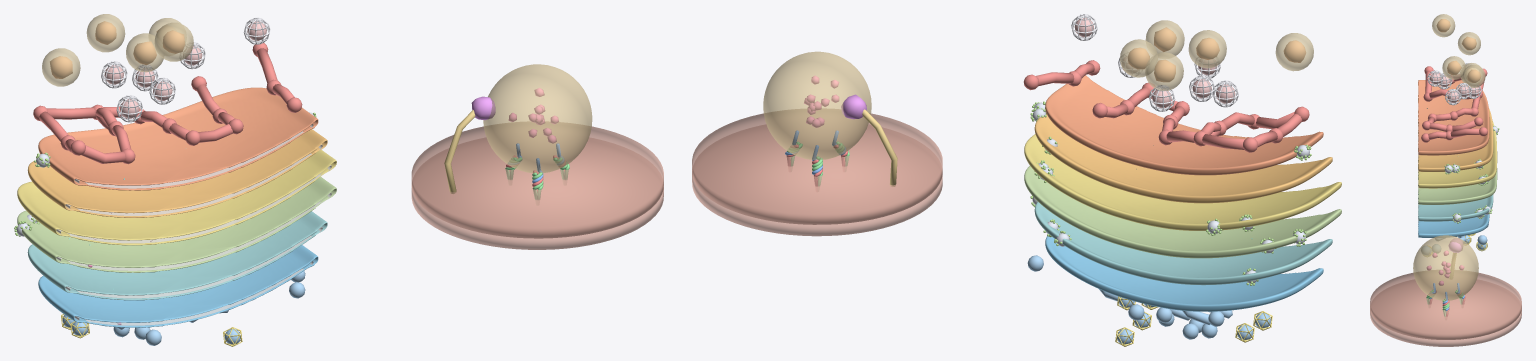
Rendered from golgi_apparatus.glb.
3 views of the same model, side by side, from view 1: azimuth 30°, elevation 25°; view 2: azimuth 150°, elevation 25°; view 3: azimuth 270°, elevation 25° (orthographic). The views are drawn at different scales.
Visible parts, largest first — view 1: Target Membrane (outer leaflet), Target Membrane (inner leaflet), trans-Golgi Cisterna 2, Transport Vesicle, medial-Golgi Cisterna 2, medial-Golgi Cisterna, trans-Golgi Cisterna, cis-Golgi Cisterna 2, cis-Golgi Cisterna, trans-Golgi Network, Secretory Granules, Clathrin Cage (+12 smaller); view 2: Target Membrane (outer leaflet), Target Membrane (inner leaflet), trans-Golgi Cisterna 2, Transport Vesicle, medial-Golgi Cisterna 2, trans-Golgi Cisterna, medial-Golgi Cisterna, cis-Golgi Cisterna 2, cis-Golgi Cisterna, Secretory Granules, trans-Golgi Network, ERGIC Vesicles & Tubules (+9 smaller); view 3: Target Membrane (outer leaflet), Target Membrane (inner leaflet), Transport Vesicle, trans-Golgi Cisterna 2, trans-Golgi Network, Secretory Granules, medial-Golgi Cisterna 2, trans-Golgi Cisterna, medial-Golgi Cisterna, cis-Golgi Cisterna 2, cis-Golgi Cisterna, Clathrin Cage (+8 smaller).
Boxes of the visible parts, left/top/right/bottom form: Target Membrane (outer leaflet): left=411, top=122, right=663, bottom=238; Target Membrane (inner leaflet): left=411, top=138, right=663, bottom=249; trans-Golgi Cisterna 2: left=38, top=87, right=318, bottom=190; Transport Vesicle: left=483, top=64, right=592, bottom=173; medial-Golgi Cisterna 2: left=17, top=149, right=336, bottom=245; medial-Golgi Cisterna: left=17, top=176, right=336, bottom=272; trans-Golgi Cisterna: left=27, top=129, right=327, bottom=217; cis-Golgi Cisterna 2: left=27, top=211, right=327, bottom=300; cis-Golgi Cisterna: left=38, top=245, right=318, bottom=327; trans-Golgi Network: left=33, top=43, right=302, bottom=164; Secretory Granules: left=42, top=14, right=193, bottom=86; Clathrin Cage: left=101, top=17, right=270, bottom=122; Target Membrane (outer leaflet): left=692, top=109, right=942, bottom=224; Target Membrane (inner leaflet): left=692, top=125, right=942, bottom=236; trans-Golgi Cisterna 2: left=1045, top=75, right=1323, bottom=175; Transport Vesicle: left=763, top=51, right=871, bottom=159; medial-Golgi Cisterna 2: left=1024, top=134, right=1341, bottom=230; trans-Golgi Cisterna: left=1034, top=114, right=1332, bottom=203; medial-Golgi Cisterna: left=1024, top=166, right=1341, bottom=258; cis-Golgi Cisterna 2: left=1034, top=202, right=1332, bottom=285; cis-Golgi Cisterna: left=1045, top=236, right=1323, bottom=311; Secretory Granules: left=1120, top=20, right=1313, bottom=90; trans-Golgi Network: left=1023, top=60, right=1309, bottom=152; ERGIC Vesicles & Tubules: left=1027, top=255, right=1270, bottom=344; Target Membrane (outer leaflet): left=1370, top=270, right=1521, bottom=339; Target Membrane (inner leaflet): left=1370, top=280, right=1521, bottom=346; Transport Vesicle: left=1413, top=235, right=1478, bottom=300; trans-Golgi Cisterna 2: left=1418, top=80, right=1489, bottom=155; trans-Golgi Network: left=1421, top=66, right=1487, bottom=142; Secretory Granules: left=1432, top=14, right=1485, bottom=87; medial-Golgi Cisterna 2: left=1418, top=120, right=1497, bottom=188; trans-Golgi Cisterna: left=1418, top=98, right=1493, bottom=171; medial-Golgi Cisterna: left=1418, top=132, right=1497, bottom=204; cis-Golgi Cisterna 2: left=1418, top=148, right=1493, bottom=221; cis-Golgi Cisterna: left=1418, top=165, right=1489, bottom=237; Clathrin Cage: left=1427, top=63, right=1481, bottom=105.
Size of the model in its own units: 16.93 by 8.61 by 6.
